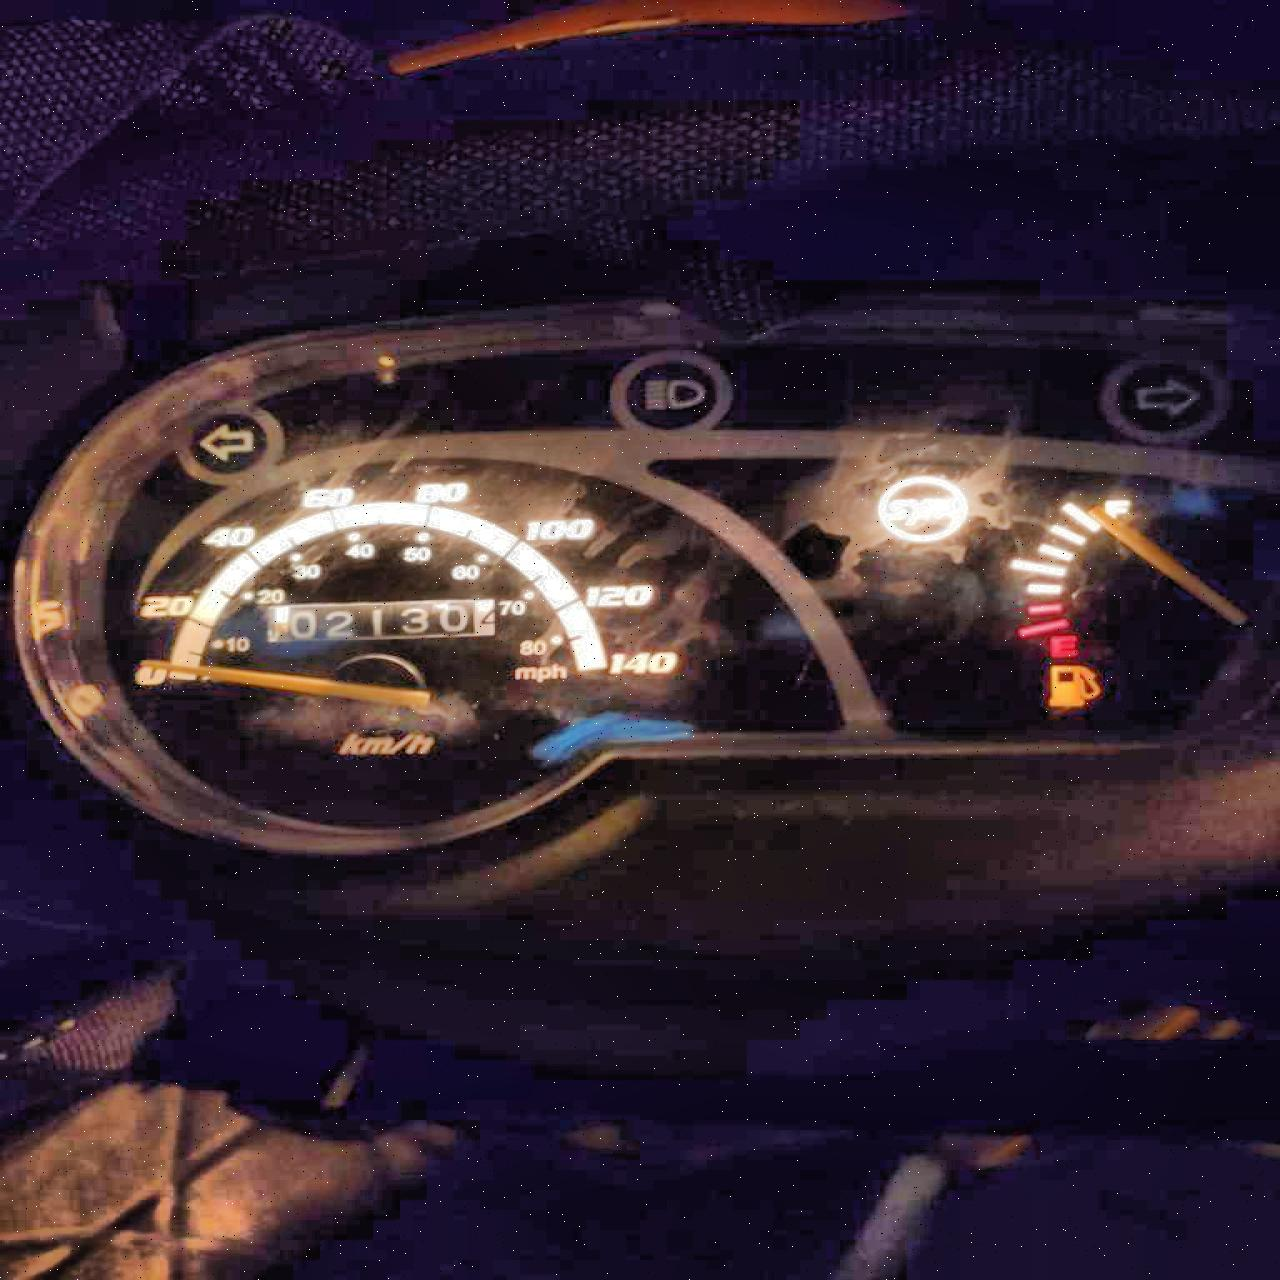0: (285, 607, 319, 639), (435, 604, 468, 633)
1: (365, 605, 388, 636)
2: (321, 607, 356, 638)
3: (395, 605, 428, 635)
4: (474, 604, 495, 629)
odometer: (264, 597, 497, 644)
